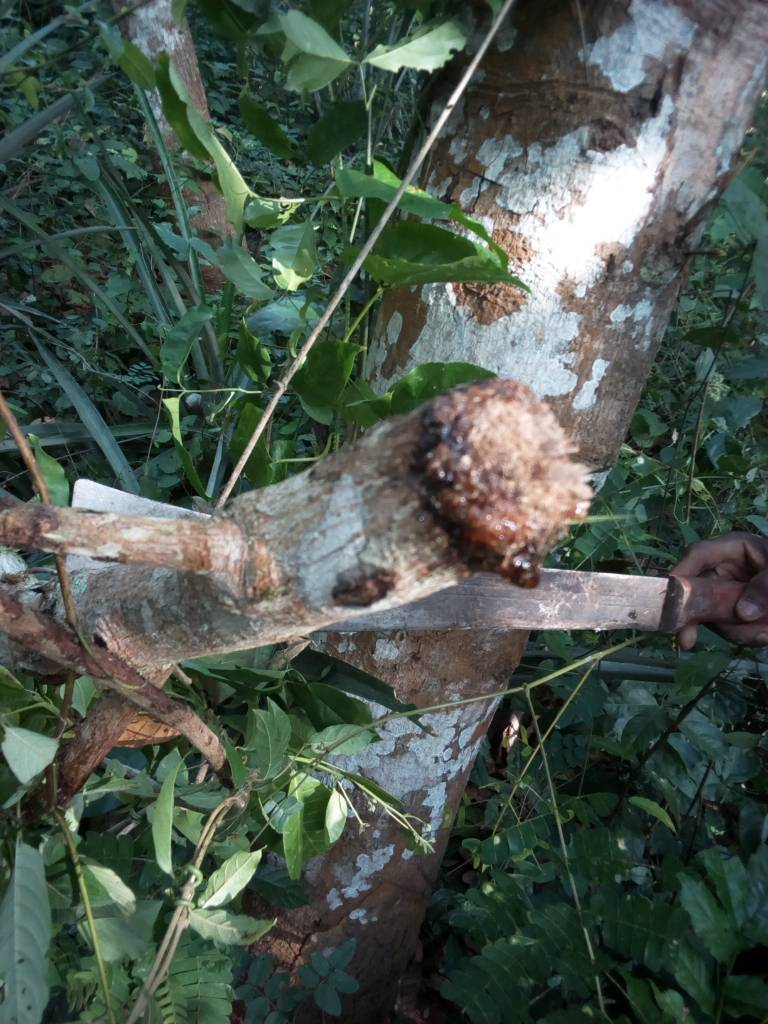Analepse trifasciata: (404, 358, 616, 600)
